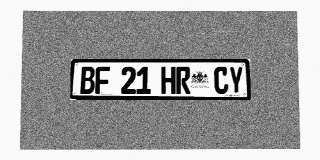1: (136, 67, 151, 94)
2: (121, 67, 136, 94)
B: (80, 67, 95, 94)
C: (214, 67, 229, 94)
F: (95, 67, 110, 94)
H: (161, 67, 176, 94)
R: (176, 67, 190, 94)
Y: (229, 67, 243, 94)
